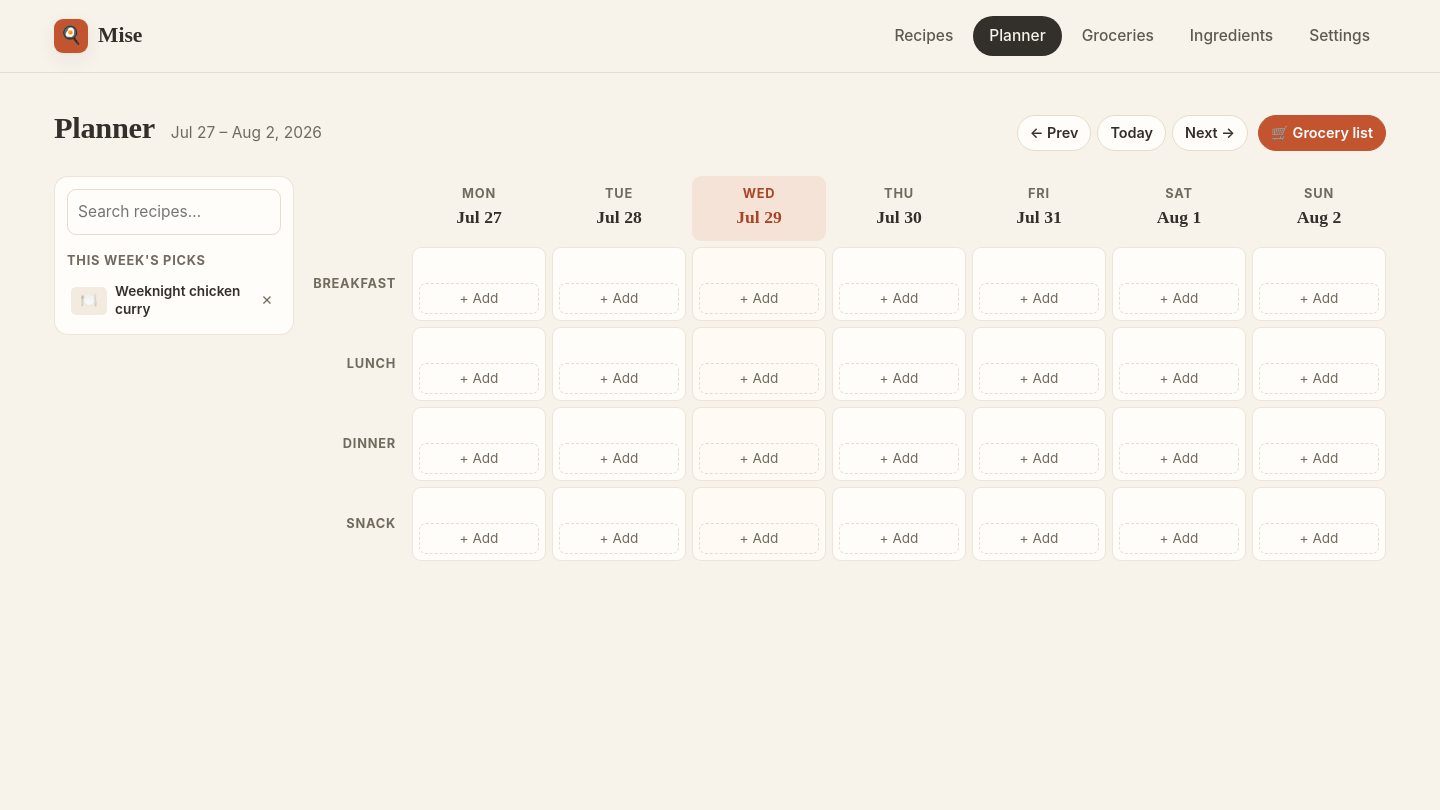
Test: PlannerPage › picks › keeps picks per week
Expected: the text "Weeknight chicken curry" is shown, [115,283,247,318]
Click the button with aria-label "Next week": (1210, 133) [1172,115,1248,151]
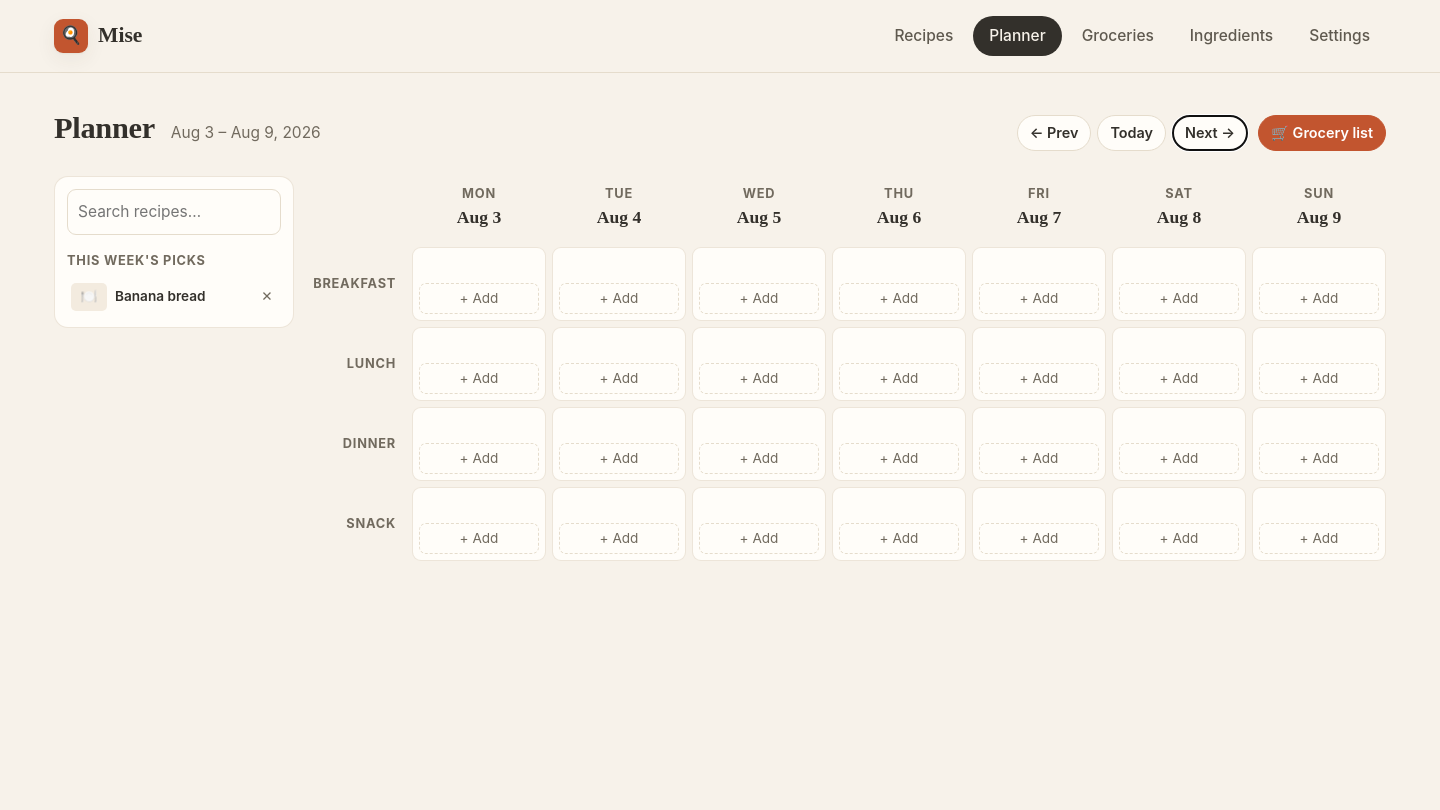
Result: the text "Banana bread" is shown at [115,288,206,306]
Result: the button "Weeknight chicken curry" is gone
